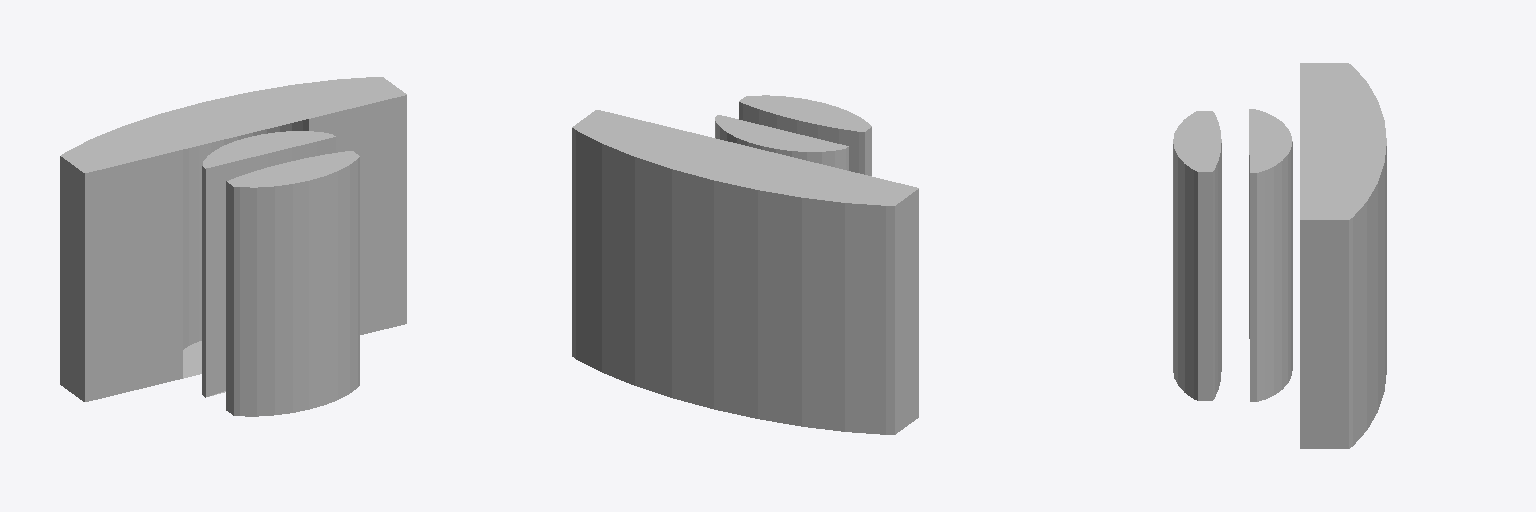
The model's file is fish_eye_lens.obj.
3 views of the same model, side by side, from view 1: azimuth 30°, elevation 25°; view 2: azimuth 150°, elevation 25°; view 3: azimuth 270°, elevation 25° (orthographic).
Visible parts, largest first — view 1: Cylinder, Cylinder.002_Cylinder.007, Cylinder.001_Cylinder.005; view 2: Cylinder, Cylinder.002_Cylinder.007, Cylinder.001_Cylinder.005; view 3: Cylinder, Cylinder.002_Cylinder.007, Cylinder.001_Cylinder.005.
Boxes of the visible parts, x1=… form: Cylinder: x1=60, y1=77, x2=406, y2=401; Cylinder.002_Cylinder.007: x1=226, y1=151, x2=359, y2=416; Cylinder.001_Cylinder.005: x1=202, y1=131, x2=335, y2=397; Cylinder: x1=572, y1=110, x2=918, y2=434; Cylinder.002_Cylinder.007: x1=739, y1=95, x2=871, y2=175; Cylinder.001_Cylinder.005: x1=715, y1=115, x2=848, y2=170; Cylinder: x1=1300, y1=63, x2=1386, y2=448; Cylinder.002_Cylinder.007: x1=1173, y1=111, x2=1221, y2=400; Cylinder.001_Cylinder.005: x1=1249, y1=109, x2=1292, y2=401.
Bounding box in the file's own units: 1.47 × 0.9994 × 0.8457.